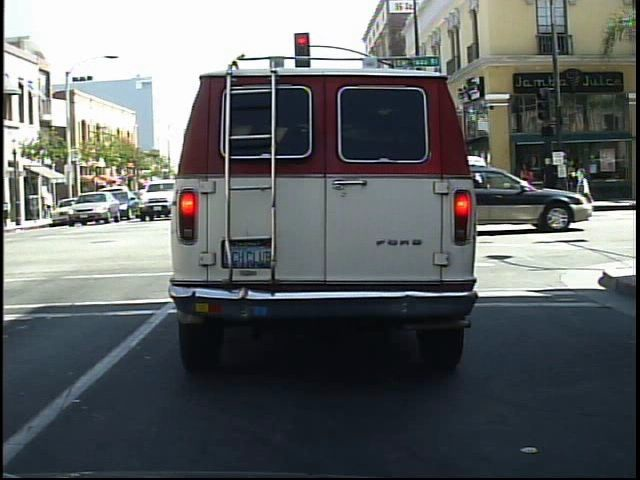person: (555, 145, 579, 210), (537, 154, 562, 211), (514, 157, 538, 211), (576, 157, 596, 201)
